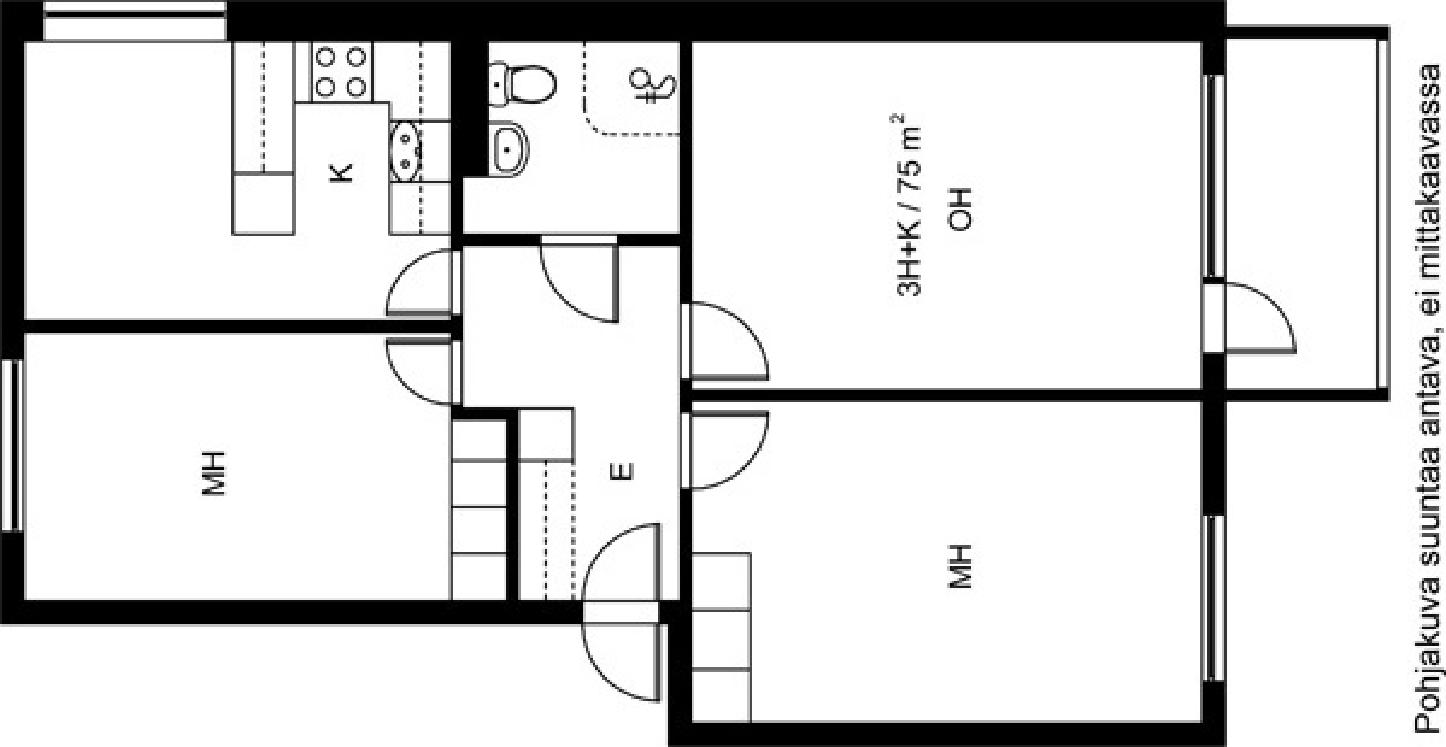door: (581, 523, 662, 708), (540, 234, 627, 329), (1201, 279, 1299, 358), (676, 301, 770, 383), (680, 413, 770, 489), (382, 336, 465, 403), (386, 244, 463, 316)
window: (45, 1, 222, 36), (1202, 71, 1230, 278), (1202, 516, 1223, 682), (4, 359, 24, 530)
zone: (689, 44, 1202, 393), (693, 399, 1202, 721), (25, 335, 512, 602), (23, 42, 452, 315), (460, 246, 679, 599), (1225, 39, 1376, 388), (464, 37, 677, 234)
